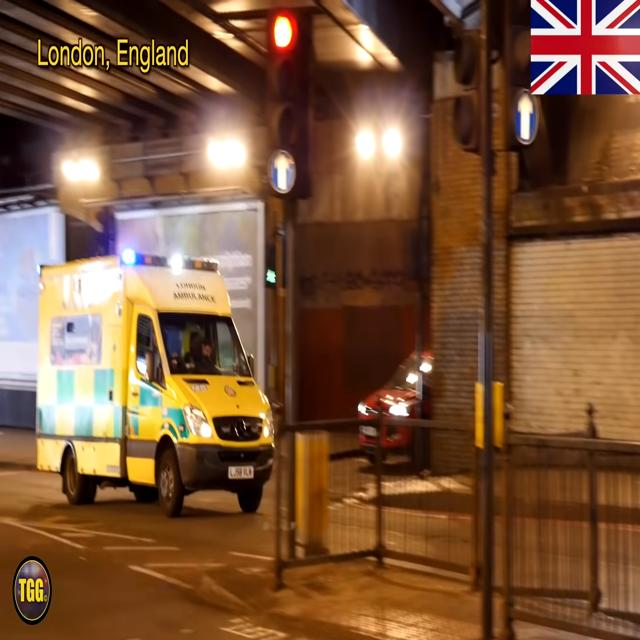emergency-vehicles: (17, 239, 265, 518)
